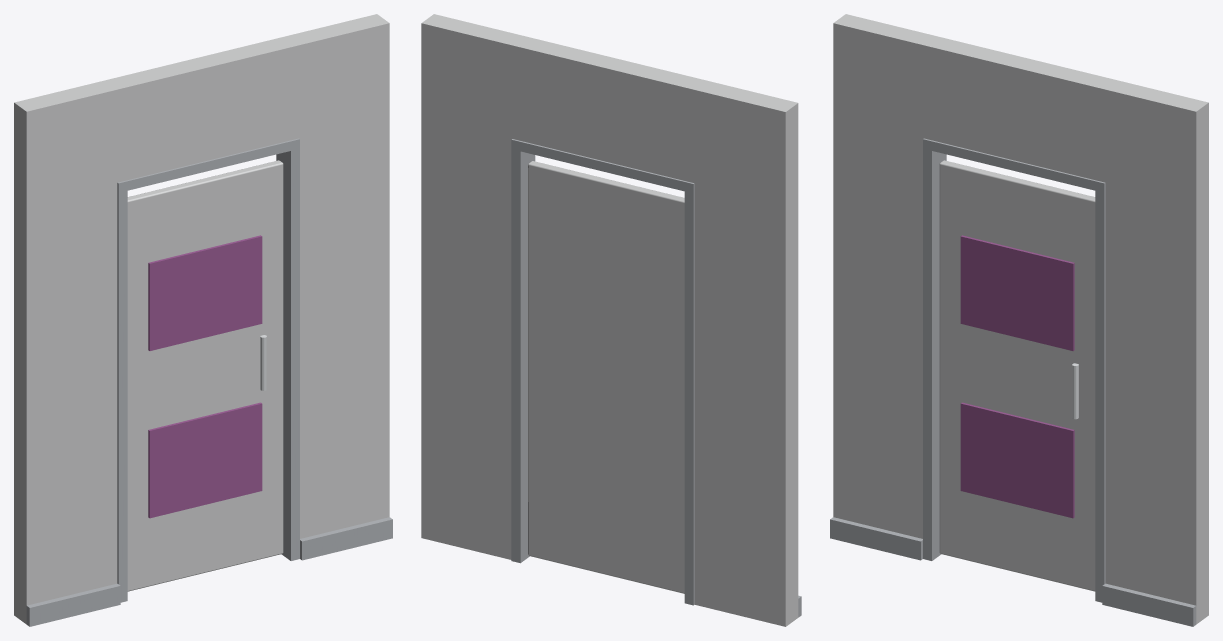
File: pharmacy-and-high-street-chemist-interior-door-bay-35d979c8__37493.glb
3 views of the same model, side by side, from view 1: azimuth 30°, elevation 25°; view 2: azimuth 150°, elevation 25°; view 3: azimuth 330°, elevation 25° (orthographic).
Parts seen in each view (by area): view 1: interior-door-bay, door-room/white, door-room/plum; view 2: interior-door-bay, door-room/white; view 3: interior-door-bay, door-room/white, door-room/plum.
Part boxes in pixels (<box>): interior-door-bay: <box>14,14,392,626</box>; door-room/white: <box>127,160,283,591</box>; door-room/plum: <box>148,235,262,518</box>; interior-door-bay: <box>421,14,801,626</box>; door-room/white: <box>528,161,684,593</box>; interior-door-bay: <box>830,14,1208,626</box>; door-room/white: <box>939,160,1095,591</box>; door-room/plum: <box>960,235,1074,518</box>.
Bounding box in the file's own units: 2 × 2.7 × 0.16.
